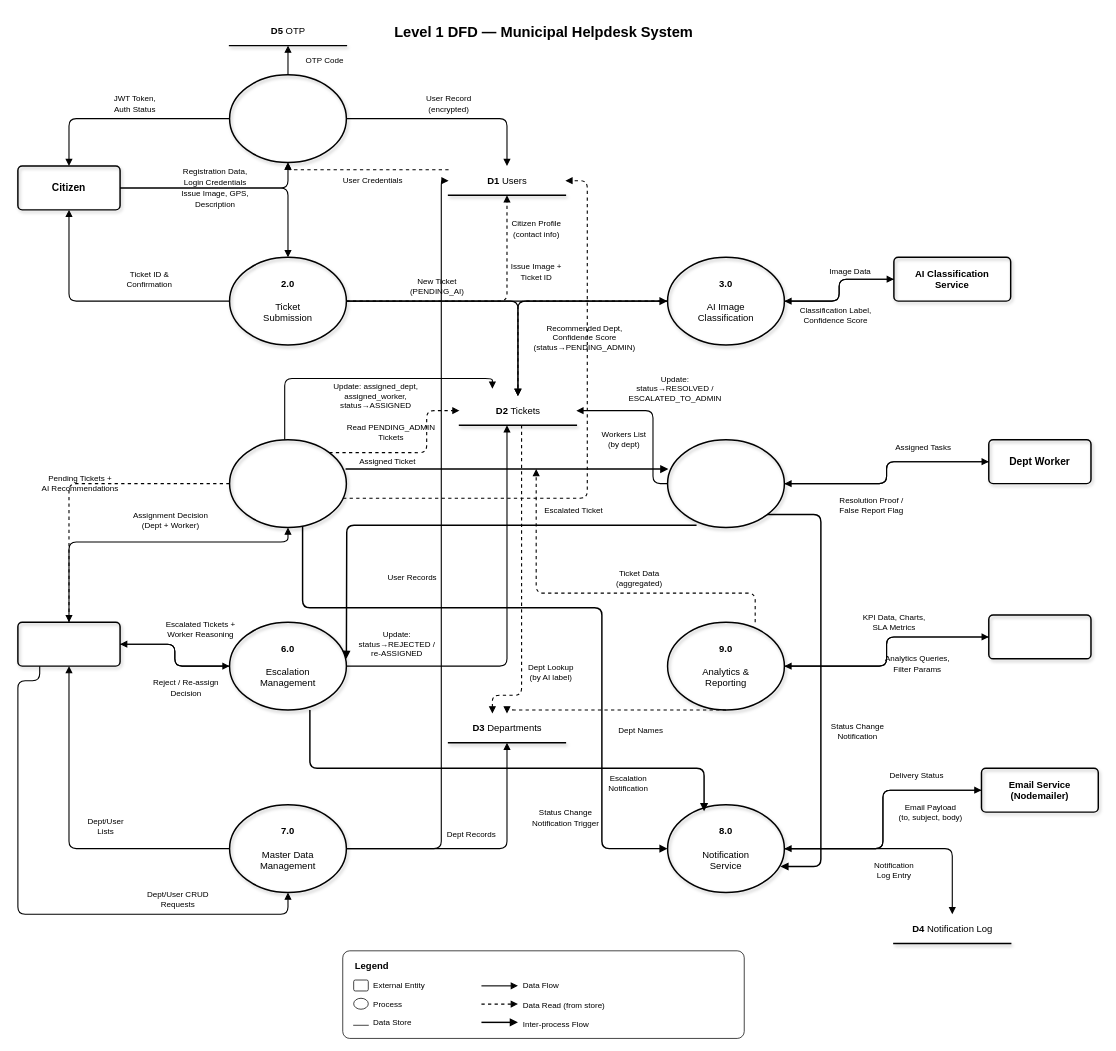
Image size: 1116x1051. Some labels were removed from this diagram. The centre of each missing label's shape, as x and y in pixels:
1.0 User Authentication & Registration: [288,119]
4.0 Admin Ticket Review & Assignment: [288,484]
5.0 Worker Task Execution: [726,484]
Admin: [69,645]
Officer: [1040,637]
